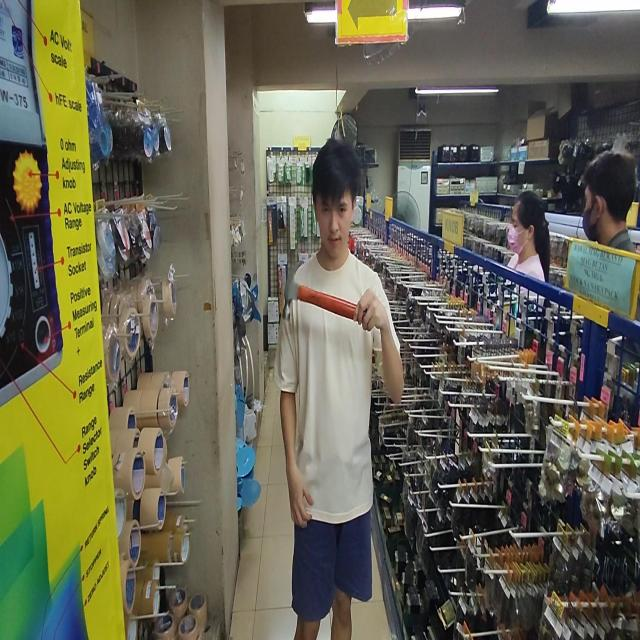hammer: (282, 260, 362, 323)
